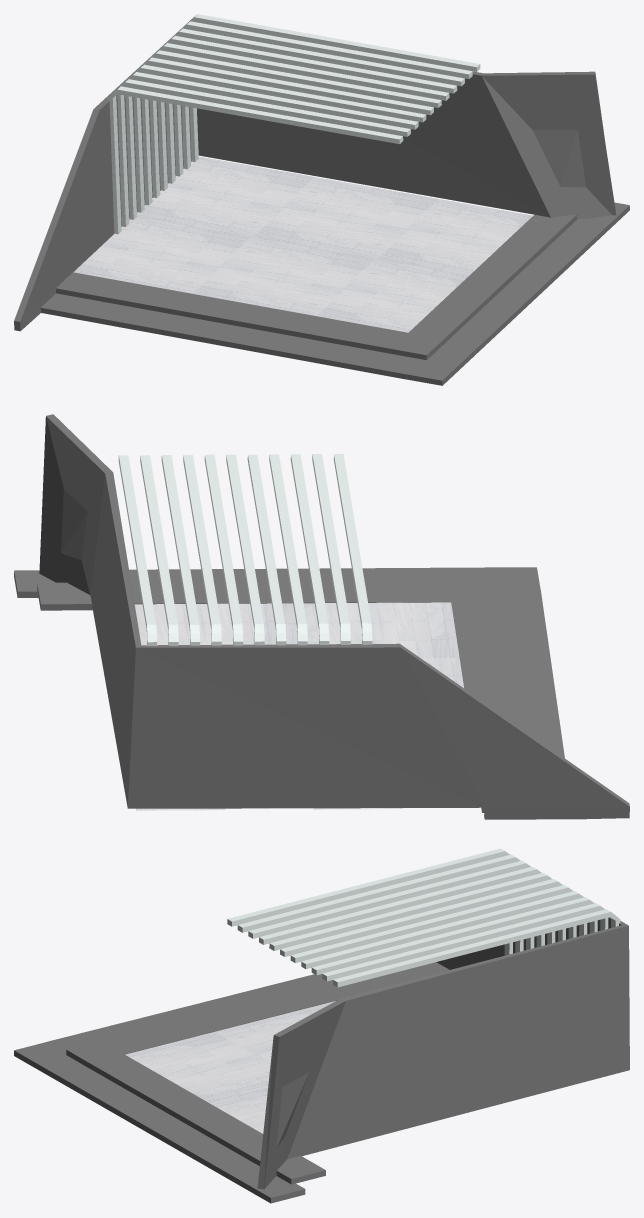
Rendered from store_environment_1.fbx.
3 views of the same model, one above another, from view 1: azimuth 30°, elevation 25°; view 2: azimuth 150°, elevation 25°; view 3: azimuth 270°, elevation 25° (orthographic). The views are drawn at different scales.
Visible parts, largest first — view 1: s.0031_Thicken, s.0092, s.0093, p.0036, s.0091, p.0043, p.0064, p.0051, p.0052, p.0053, p.0050, p.0063 (+16 smaller); view 2: s.0031_Thicken, s.0093, s.0092, s.0091, p.0036, p.0037, s.0033, s.0020, s.0023, s.0022, s.0009, s.0019 (+9 smaller); view 3: s.0031_Thicken, p.0036, s.0092, s.0091, s.0093, p.0037, p.0038, s.0008, s.0009, s.0021, s.0010, s.0019 (+8 smaller).
Part boxes in pixels (x1,y1,x2,y2): s.0031_Thicken: (14, 28, 616, 331); s.0092: (56, 272, 444, 360); s.0093: (40, 293, 422, 379); p.0036: (406, 202, 629, 385); s.0091: (408, 214, 577, 343); p.0043: (283, 177, 438, 228); p.0064: (219, 237, 374, 288); p.0051: (253, 207, 408, 258); p.0052: (102, 216, 250, 266); p.0053: (137, 187, 284, 236); p.0050: (168, 156, 314, 206); p.0063: (192, 267, 344, 315); s.0031_Thicken: (39, 414, 629, 819); s.0093: (497, 588, 564, 757); s.0092: (448, 580, 517, 812); s.0091: (37, 580, 451, 610); p.0036: (14, 567, 540, 597); p.0037: (369, 602, 459, 658); s.0033: (269, 454, 307, 645); s.0020: (226, 454, 264, 645); s.0023: (204, 454, 243, 645); s.0022: (183, 455, 221, 645); s.0009: (312, 454, 350, 644); s.0019: (290, 454, 329, 644); s.0031_Thicken: (257, 917, 629, 1189); p.0036: (14, 1041, 305, 1203); s.0092: (66, 962, 449, 1068); s.0091: (89, 1054, 325, 1184); s.0093: (49, 974, 332, 1051); p.0037: (125, 1032, 253, 1077); p.0038: (166, 1054, 270, 1102); s.0008: (333, 909, 620, 987); s.0009: (237, 854, 523, 952); s.0021: (269, 873, 555, 950); s.0010: (227, 848, 512, 955); s.0019: (248, 860, 534, 949).
Bounding box in the file's own units: 24.45 × 22 × 7.26.
Materials: 3 (1 with a texture image).
